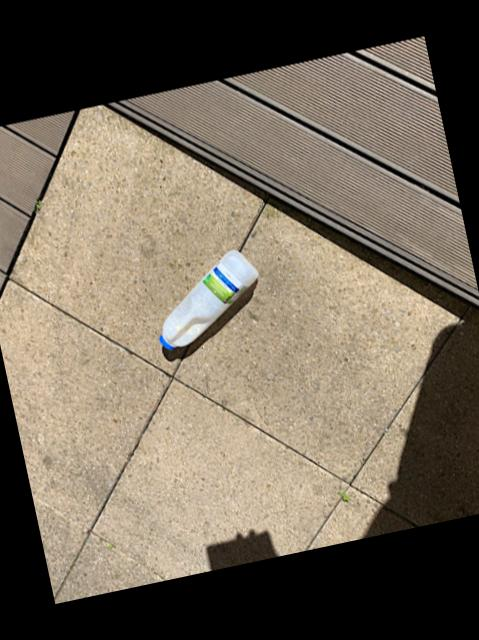plastic: (158, 249, 255, 348)
